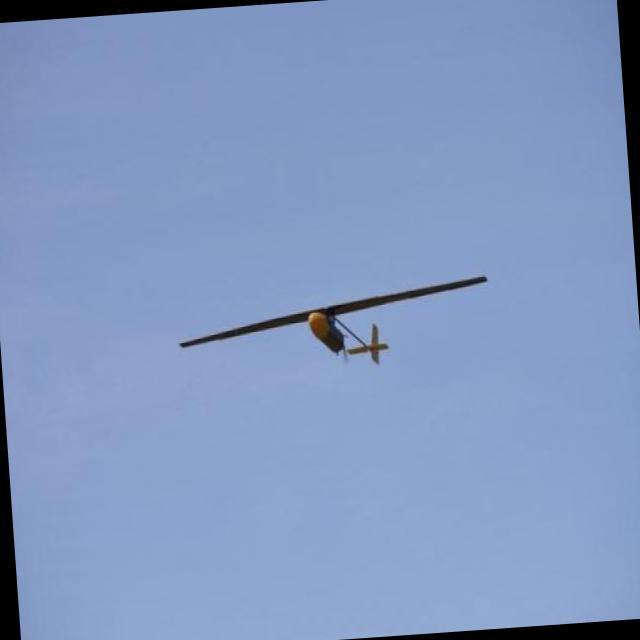iha: (181, 297, 498, 343)
